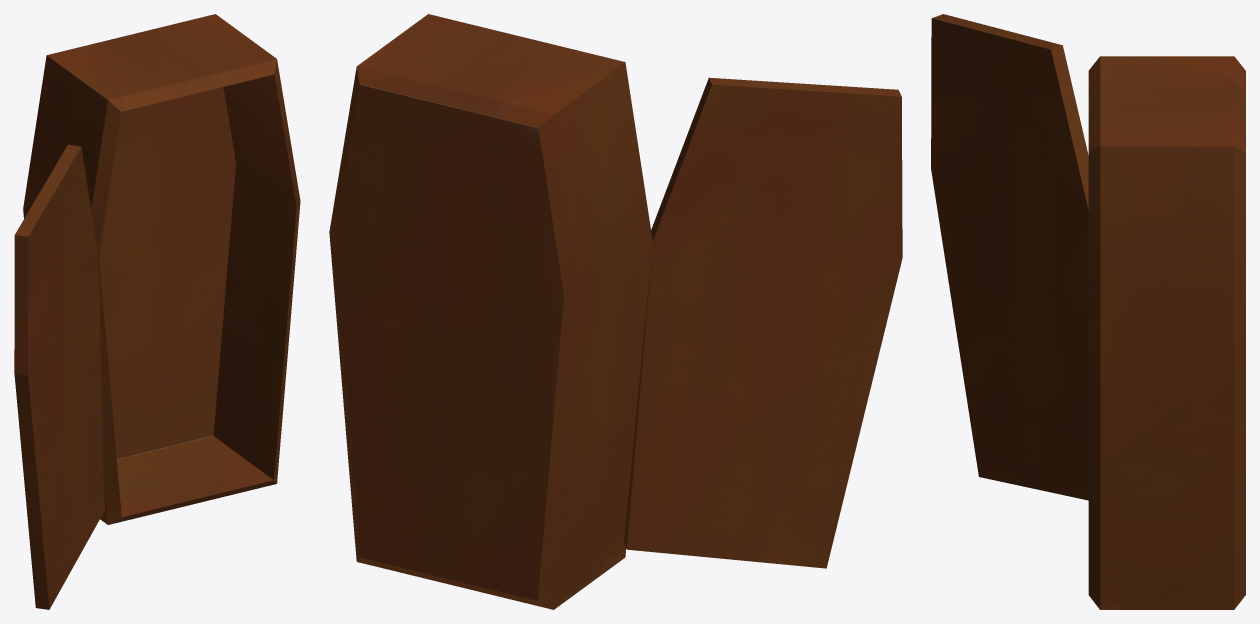
The model's file is Casket_Open.fbx.
3 renders of one model, left to right at view 1: azimuth 30°, elevation 25°; view 2: azimuth 150°, elevation 25°; view 3: azimuth 270°, elevation 25°, orthographic. The views are drawn at different scales.
Visible parts, largest first — view 1: Casket_Open, Casket_Door; view 2: Casket_Open, Casket_Door; view 3: Casket_Open, Casket_Door.
Part boxes in pixels (<box>): Casket_Open: <box>23,14,300,524</box>; Casket_Door: <box>14,144,104,609</box>; Casket_Open: <box>329,14,652,609</box>; Casket_Door: <box>624,77,902,568</box>; Casket_Open: <box>1088,56,1245,609</box>; Casket_Door: <box>931,14,1088,500</box>.
Size of the model in its own units: 211 by 248 by 147.
